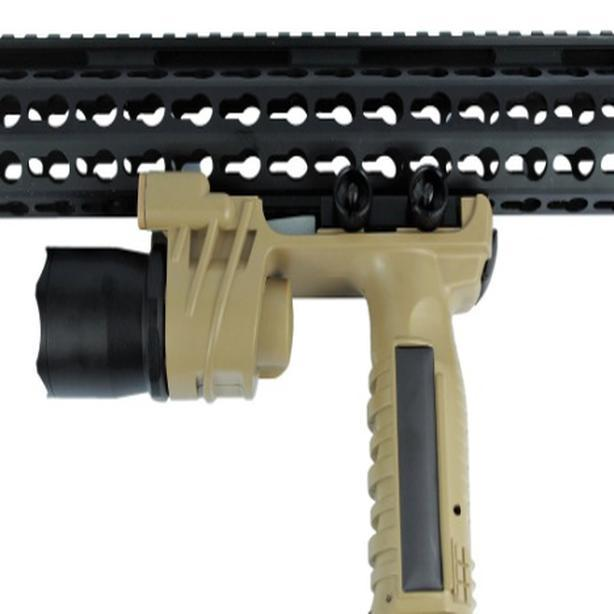Firearm: (5, 40, 567, 614)
